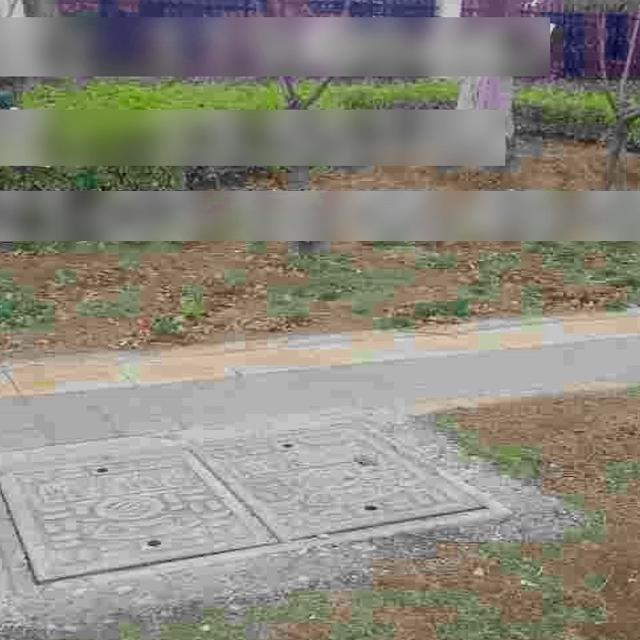good: (0, 415, 517, 596)
